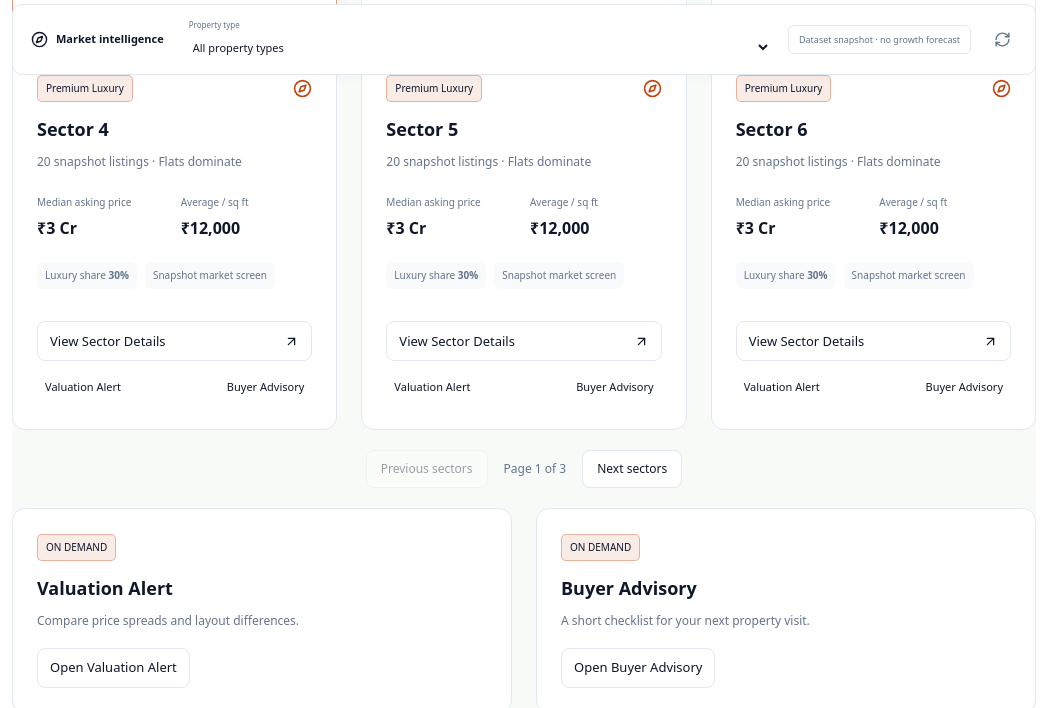
Test case: tier filtering stays local and pagination replaces cards rather than growing the grid
(page scrolled)
Click the button "Next sectors": (632, 469) [582,450,682,488]
(page scrolled)
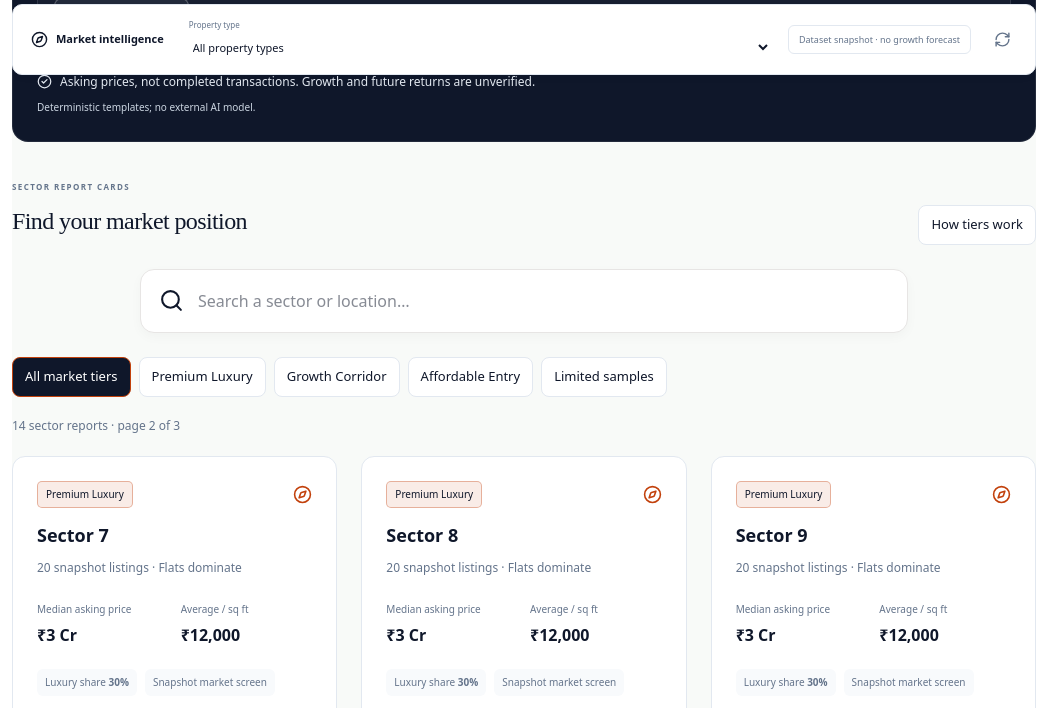
Click the button "Affordable Entry": (470, 377) [408,357,533,397]
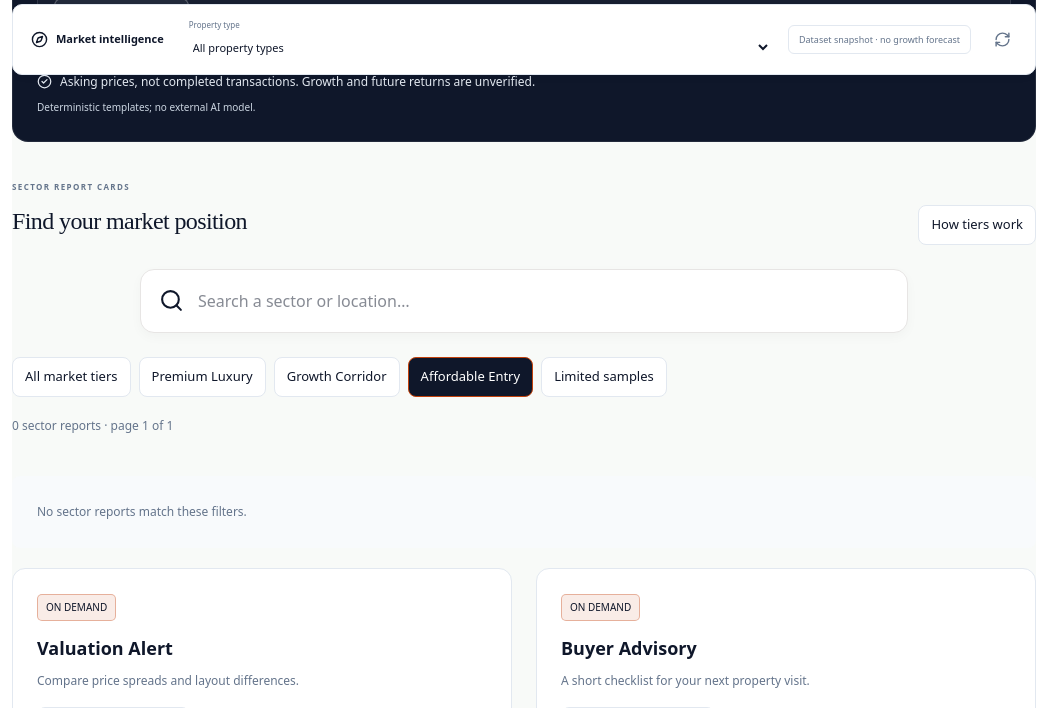
Result: the text "No sector reports match these filters." is shown at [12,476,1036,548]
